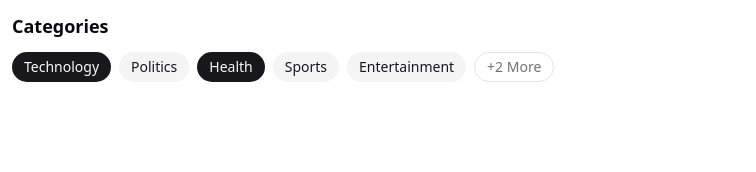
Test: CategoryFilter Component › expands to show all categories when "More" button is clicked
Click the button "+2 More".
click(514, 67)  # box [474, 52, 554, 82]
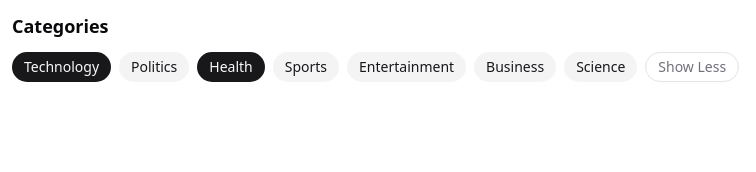
Expected: the button "Business" is shown, [474, 52, 556, 82]
Expected: the button "Science" is shown, [564, 52, 637, 82]
Expected: the button "Show Less" is shown, [645, 52, 739, 82]
